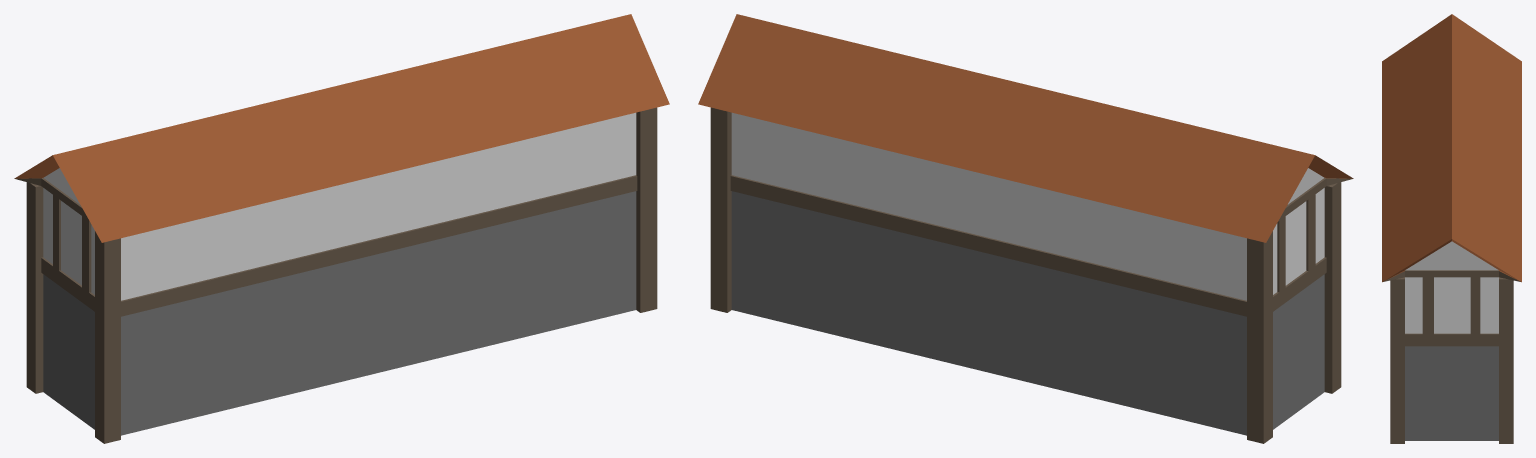
Rendered from Building base4 1.fbx.
3 renders of one model, left to right at view 1: azimuth 30°, elevation 25°; view 2: azimuth 150°, elevation 25°; view 3: azimuth 270°, elevation 25°, orthographic. The views are drawn at different scales.
Parts seen in each view (by area): view 1: Cube; view 2: Cube; view 3: Cube.
Part boxes in pixels (bbox=[...]): Cube: bbox=[14, 14, 669, 443]; Cube: bbox=[698, 14, 1353, 443]; Cube: bbox=[1382, 14, 1521, 443].
Size of the model in its own units: 862 by 375 by 226.
